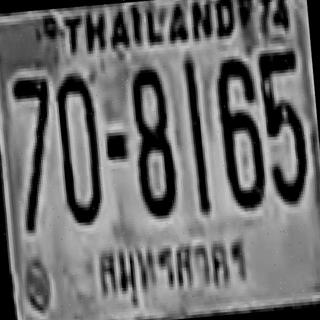N00: (54, 70, 104, 222)
N01: (182, 55, 207, 199)
N05: (257, 48, 309, 203)
N06: (213, 56, 265, 208)
N07: (11, 72, 59, 228)
N08: (127, 62, 177, 214)
P58: (90, 228, 252, 313)
